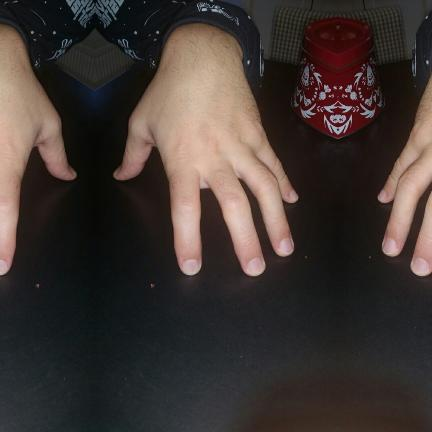Nail: (246, 258, 262, 276), (412, 258, 428, 276), (182, 259, 198, 275), (278, 238, 292, 254), (382, 238, 396, 254), (0, 259, 6, 275), (289, 190, 297, 200), (377, 190, 385, 200), (113, 166, 120, 176), (68, 166, 75, 176)
